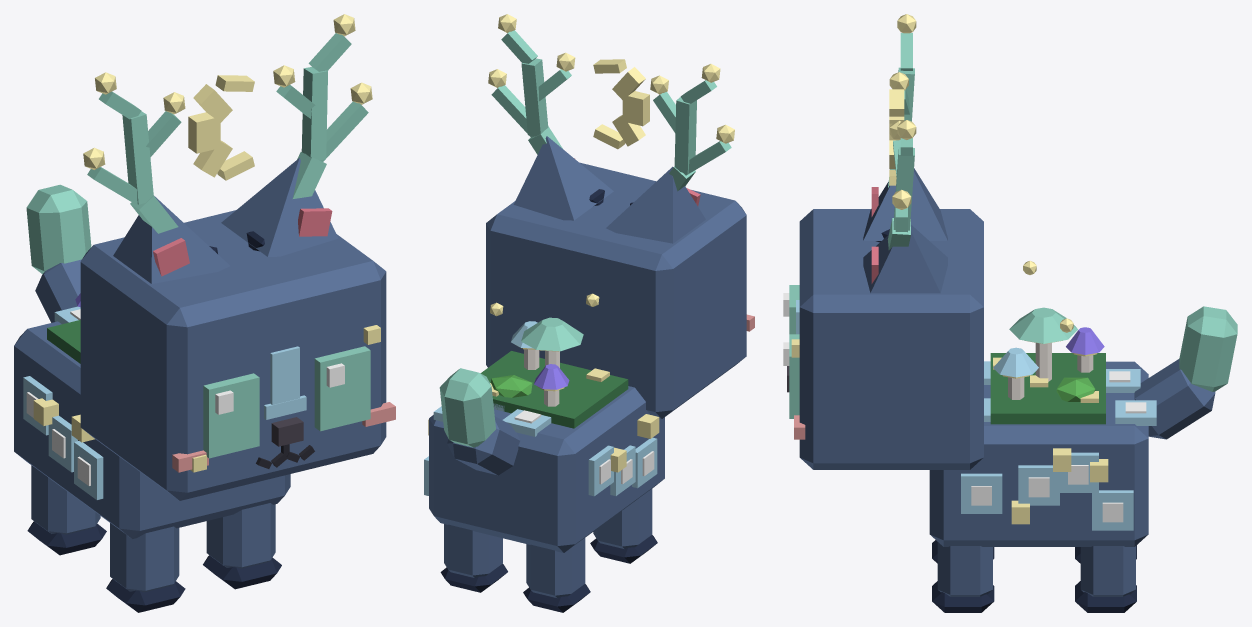
Rendered from CatCafe_Cat_Moonstag.glb.
The picture shows the model from 3 angles, left to right: view 1: azimuth 30°, elevation 25°; view 2: azimuth 150°, elevation 25°; view 3: azimuth 270°, elevation 25°; orthographic projection. The views are drawn at different scales.
Parts seen in each view (by area): view 1: CatCafe_Cat_Moonstag_Head, CatCafe_Cat_Moonstag_Body, CatCafe_Cat_Moonstag_Glow, CatCafe_Cat_Moonstag_Tail, CatCafe_Cat_Moonstag_EarL, CatCafe_Cat_Moonstag_LegF2, CatCafe_Cat_Moonstag_LegF1, CatCafe_Cat_Moonstag_EarR, CatCafe_Cat_Moonstag_Eye1, CatCafe_Cat_Moonstag_Eye2, CatCafe_Cat_Moonstag_LegB2, CatCafe_Cat_Moonstag_Prop2; view 2: CatCafe_Cat_Moonstag_Head, CatCafe_Cat_Moonstag_Body, CatCafe_Cat_Moonstag_Glow, CatCafe_Cat_Moonstag_Prop2, CatCafe_Cat_Moonstag_Tail, CatCafe_Cat_Moonstag_EarL, CatCafe_Cat_Moonstag_EarR, CatCafe_Cat_Moonstag_LegB2, CatCafe_Cat_Moonstag_LegB1, CatCafe_Cat_Moonstag_LegF2, CatCafe_Cat_Moonstag_Grove_Glow; view 3: CatCafe_Cat_Moonstag_Head, CatCafe_Cat_Moonstag_Body, CatCafe_Cat_Moonstag_Tail, CatCafe_Cat_Moonstag_Prop2, CatCafe_Cat_Moonstag_Glow, CatCafe_Cat_Moonstag_EarL, CatCafe_Cat_Moonstag_LegF1, CatCafe_Cat_Moonstag_LegB1, CatCafe_Cat_Moonstag_Grove_Glow, CatCafe_Cat_Moonstag_EarR, CatCafe_Cat_Moonstag_Eye1.
Boxes of the visible parts, x1,y1,x2,y2 form: CatCafe_Cat_Moonstag_Head: [80, 210, 395, 500]; CatCafe_Cat_Moonstag_Body: [14, 306, 290, 538]; CatCafe_Cat_Moonstag_Glow: [83, 14, 372, 233]; CatCafe_Cat_Moonstag_Tail: [26, 184, 91, 322]; CatCafe_Cat_Moonstag_EarL: [221, 158, 338, 256]; CatCafe_Cat_Moonstag_LegF2: [106, 523, 185, 612]; CatCafe_Cat_Moonstag_LegF1: [203, 503, 281, 589]; CatCafe_Cat_Moonstag_EarR: [113, 196, 229, 283]; CatCafe_Cat_Moonstag_Eye1: [314, 346, 370, 431]; CatCafe_Cat_Moonstag_Eye2: [203, 373, 259, 458]; CatCafe_Cat_Moonstag_LegB2: [27, 465, 106, 555]; CatCafe_Cat_Moonstag_Prop2: [47, 320, 80, 363]; CatCafe_Cat_Moonstag_Head: [486, 162, 754, 418]; CatCafe_Cat_Moonstag_Body: [424, 368, 664, 552]; CatCafe_Cat_Moonstag_Glow: [488, 14, 734, 191]; CatCafe_Cat_Moonstag_Prop2: [480, 349, 628, 428]; CatCafe_Cat_Moonstag_Tail: [439, 368, 519, 475]; CatCafe_Cat_Moonstag_EarL: [513, 136, 613, 220]; CatCafe_Cat_Moonstag_EarR: [606, 166, 705, 243]; CatCafe_Cat_Moonstag_LegB2: [523, 538, 590, 612]; CatCafe_Cat_Moonstag_LegB1: [440, 524, 507, 592]; CatCafe_Cat_Moonstag_LegF2: [590, 489, 657, 563]; CatCafe_Cat_Moonstag_Grove_Glow: [490, 293, 599, 391]; CatCafe_Cat_Moonstag_Head: [787, 209, 983, 469]; CatCafe_Cat_Moonstag_Body: [929, 357, 1156, 546]; CatCafe_Cat_Moonstag_Tail: [1134, 306, 1237, 439]; CatCafe_Cat_Moonstag_Prop2: [990, 343, 1105, 424]; CatCafe_Cat_Moonstag_Glow: [887, 14, 916, 249]; CatCafe_Cat_Moonstag_EarL: [863, 225, 947, 293]; CatCafe_Cat_Moonstag_LegF1: [932, 542, 994, 612]; CatCafe_Cat_Moonstag_LegB1: [1075, 546, 1136, 612]; CatCafe_Cat_Moonstag_Grove_Glow: [993, 261, 1104, 378]; CatCafe_Cat_Moonstag_EarR: [863, 168, 947, 240]; CatCafe_Cat_Moonstag_Eye1: [783, 334, 799, 418].
Bounding box in the file's own units: 1.3 × 2.48 × 1.97.
1 material, 1 textured.
